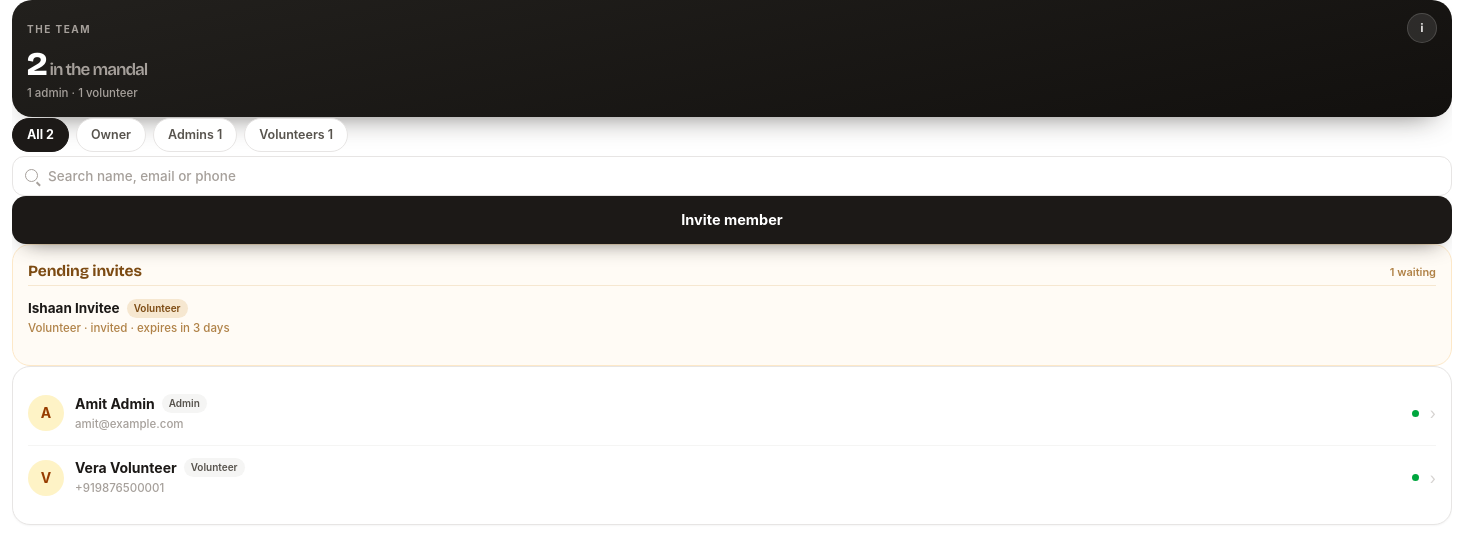
Test: ManageMembersContent — the Members tab › narrows visible rows with the filter pills
Expected: the text "Amit Admin" is shown, [75,394,155,414]
Click the button "Volunteers 1".
click(296, 135)  # box [244,118,348,152]
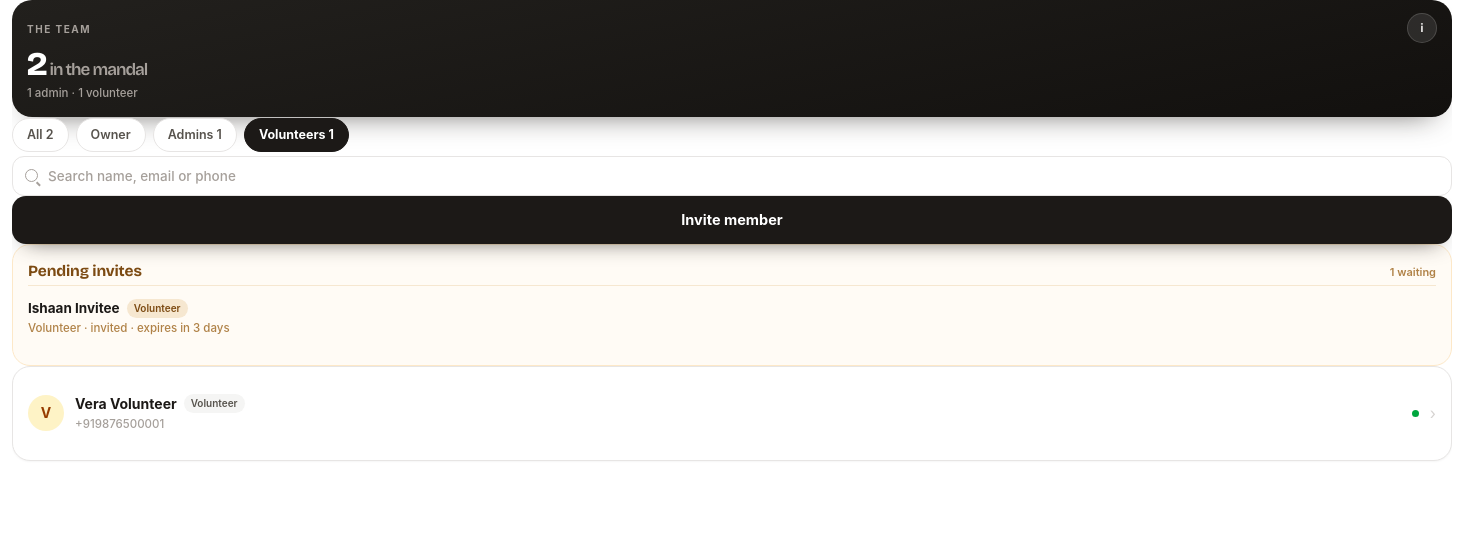
Expected: the text "Vera Volunteer" is shown, [75,394,177,414]
Expected: the button "Amit Admin" is gone
